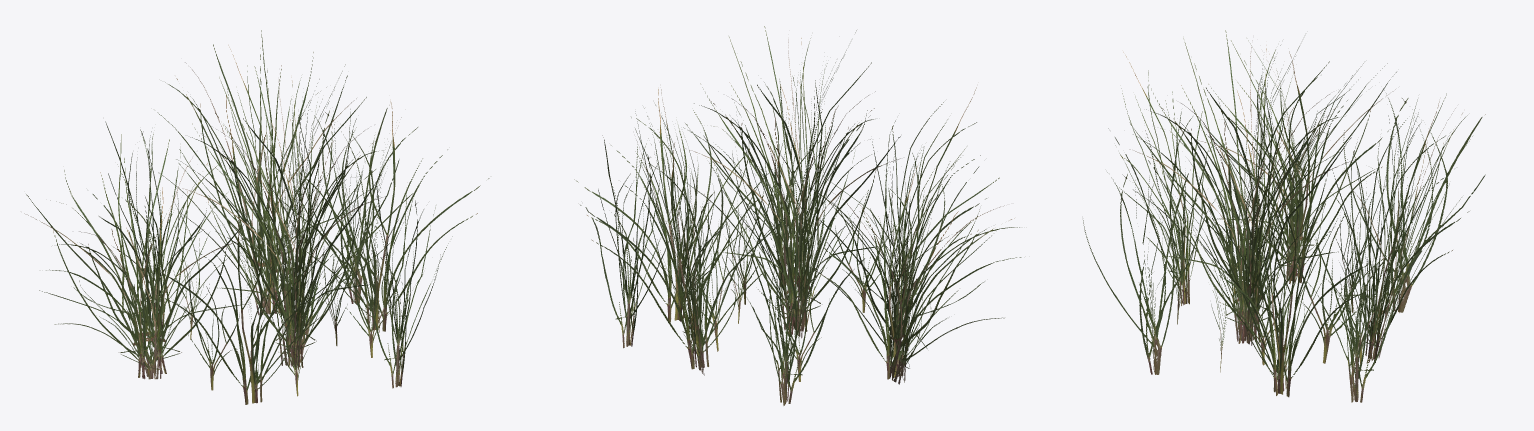
The model's file is beach_grass_02_3.fbx.
3 views of the same model, side by side, from view 1: azimuth 30°, elevation 25°; view 2: azimuth 150°, elevation 25°; view 3: azimuth 270°, elevation 25° (orthographic). The views are drawn at different scales.
Parts seen in each view (by area): view 1: beach_grass_02_3_LOD0; view 2: beach_grass_02_3_LOD0; view 3: beach_grass_02_3_LOD0.
Part boxes in pixels (left/top/right/bottom): beach_grass_02_3_LOD0: left=24, top=30, right=489, bottom=404; beach_grass_02_3_LOD0: left=574, top=26, right=1021, bottom=405; beach_grass_02_3_LOD0: left=1083, top=30, right=1485, bottom=402.
Size of what is drawn, in the model's own units: 81.54 by 53.17 by 65.99.
